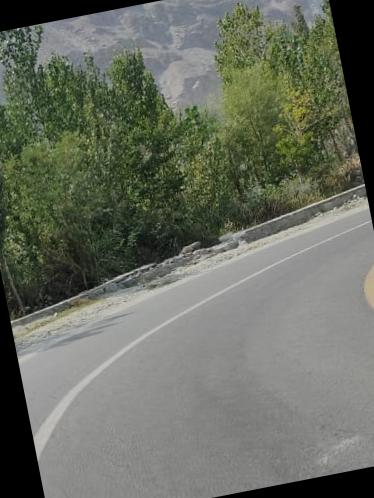right_turn: (0, 124, 374, 498)
